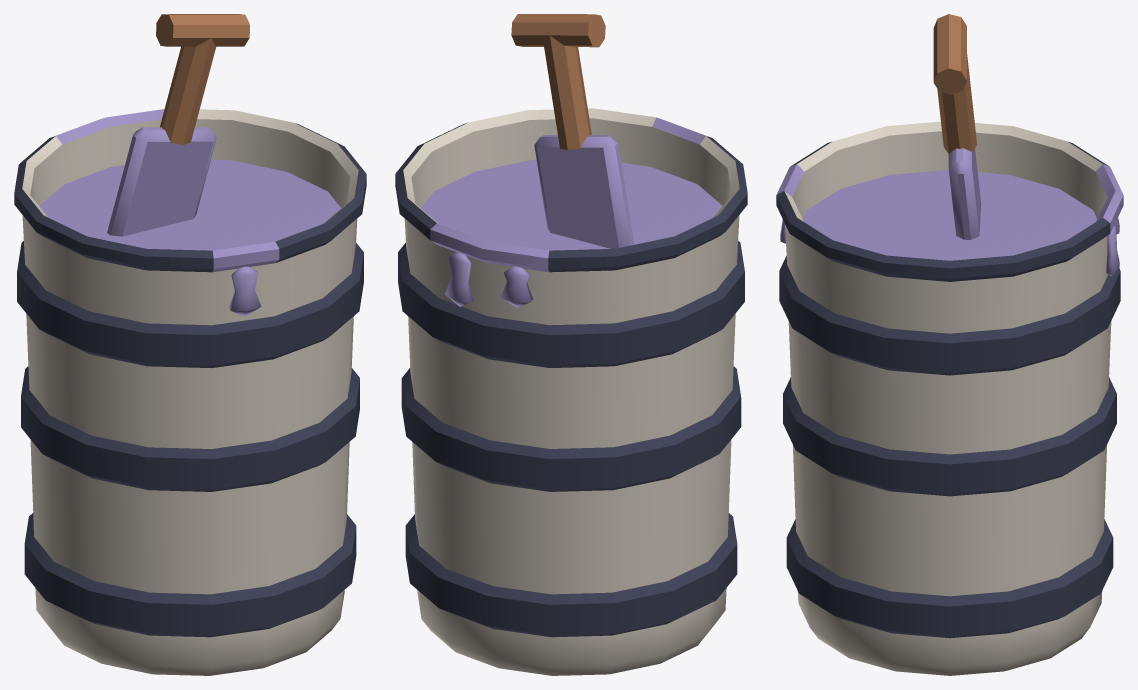
File: prop_mixing_vat.glb
3 renders of one model, left to right at view 1: azimuth 30°, elevation 25°; view 2: azimuth 150°, elevation 25°; view 3: azimuth 270°, elevation 25°, orthographic. The views are drawn at different scales.
Parts seen in each view (by area): view 1: MixingVatMesh; view 2: MixingVatMesh; view 3: MixingVatMesh.
Boxes of the visible parts, x1,y1,x2,y2 form: MixingVatMesh: (14, 14, 366, 675); MixingVatMesh: (395, 14, 747, 675); MixingVatMesh: (776, 14, 1123, 675).
Size of the model in its own units: 0.744 by 1.4 by 0.744.
